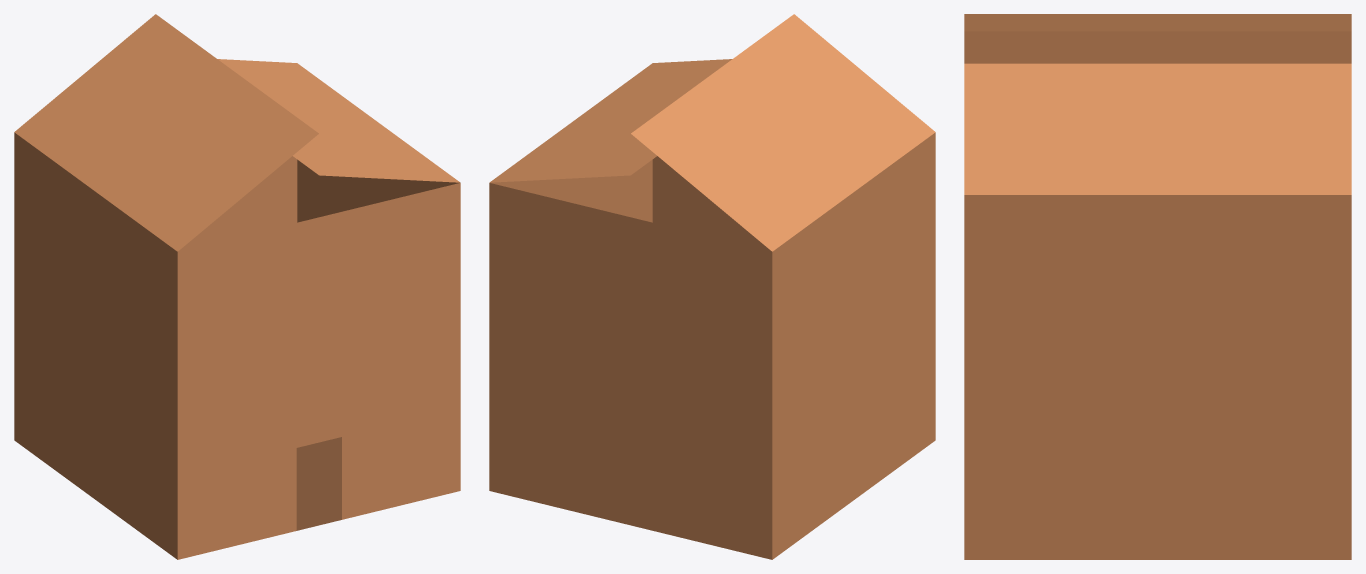
The model's file is Cardboard Box Closed.glb.
3 renders of one model, left to right at view 1: azimuth 30°, elevation 25°; view 2: azimuth 150°, elevation 25°; view 3: azimuth 270°, elevation 25°, orthographic. The views are drawn at different scales.
Parts seen in each view (by area): view 1: cardboardBoxClosed(Clone); view 2: cardboardBoxClosed(Clone); view 3: cardboardBoxClosed(Clone).
Part boxes in pixels (x1,y1,x2,y2): cardboardBoxClosed(Clone): (14, 14, 460, 559); cardboardBoxClosed(Clone): (489, 14, 935, 559); cardboardBoxClosed(Clone): (964, 14, 1351, 559).
Bounding box in the file's own units: 0.2125 × 0.281 × 0.2125.
